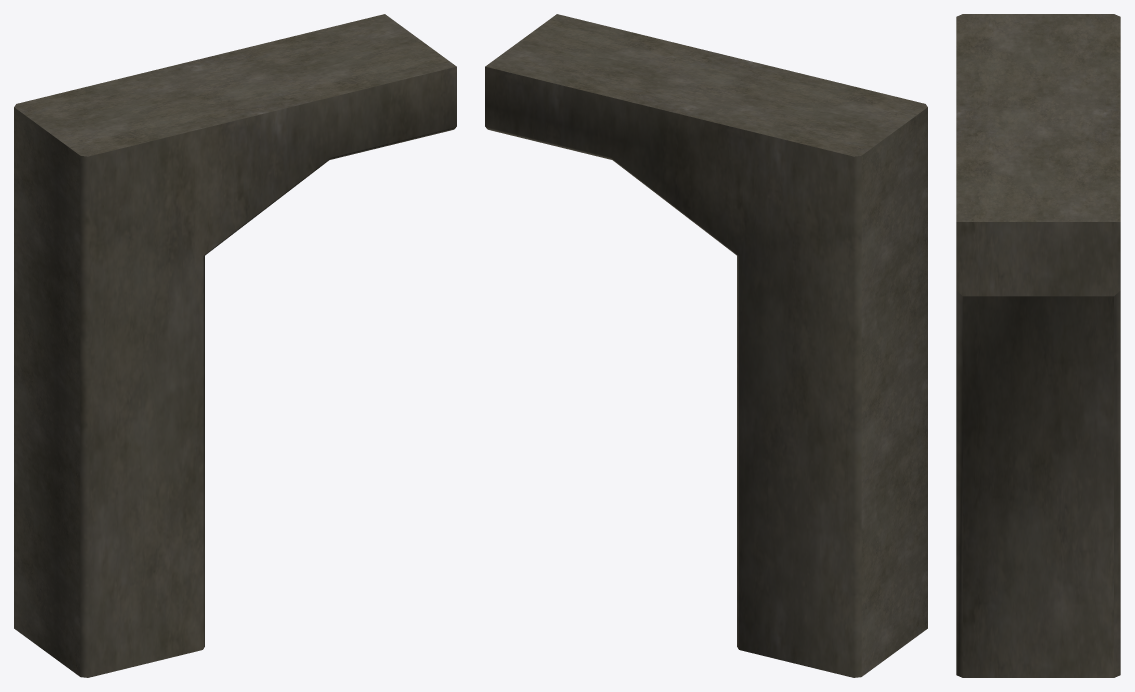
File: RailsPost_2.fbx
3 renders of one model, left to right at view 1: azimuth 30°, elevation 25°; view 2: azimuth 150°, elevation 25°; view 3: azimuth 270°, elevation 25°, orthographic. The views are drawn at different scales.
Parts seen in each view (by area): view 1: RailsPost_2; view 2: RailsPost_2; view 3: RailsPost_2.
Part boxes in pixels (x1,y1,x2,y2): RailsPost_2: (14, 14, 456, 677); RailsPost_2: (485, 14, 927, 677); RailsPost_2: (956, 14, 1120, 677).
Bounding box in the file's own units: 3 × 4 × 1.
